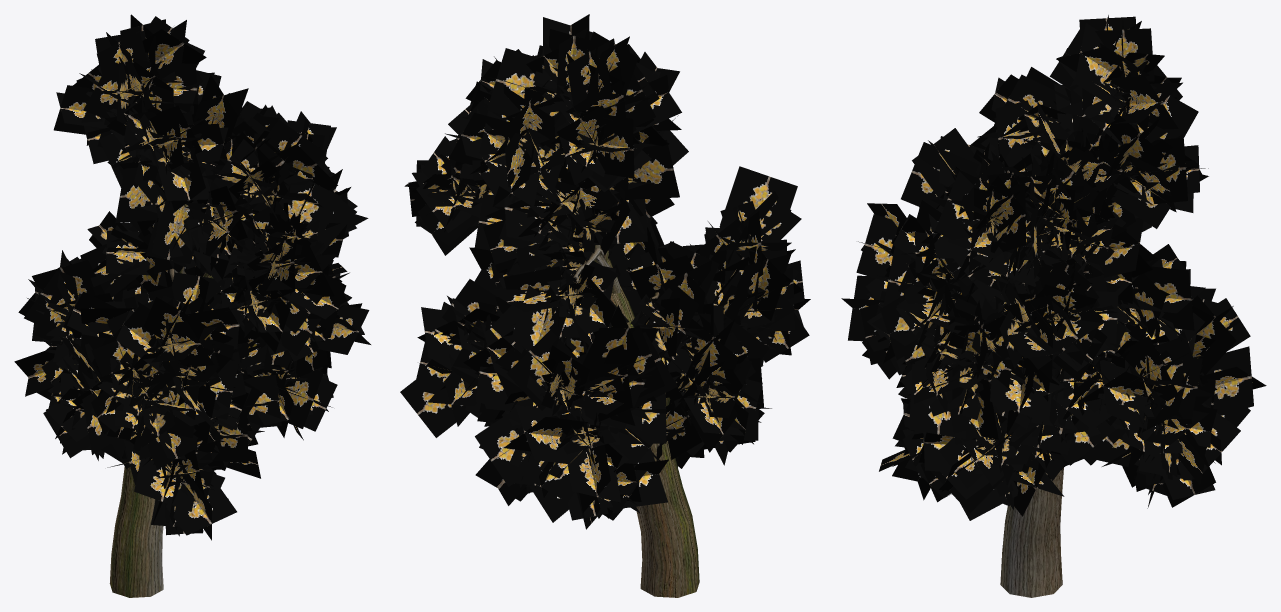
The model's file is eztree-hophornbeam-understory-d.glb.
The picture shows the model from 3 angles, left to right: view 1: azimuth 30°, elevation 25°; view 2: azimuth 150°, elevation 25°; view 3: azimuth 270°, elevation 25°; orthographic projection. The views are drawn at different scales.
Parts seen in each view (by area): view 1: eztree-hophornbeam-understory-d; view 2: eztree-hophornbeam-understory-d; view 3: eztree-hophornbeam-understory-d.
Boxes of the visible parts, left/top/right/bottom form: eztree-hophornbeam-understory-d: left=14, top=14, right=370, bottom=597; eztree-hophornbeam-understory-d: left=400, top=14, right=810, bottom=597; eztree-hophornbeam-understory-d: left=841, top=15, right=1266, bottom=597.
Bounding box in the file's own units: 19.42 × 31.25 × 20.47.
2 materials, 2 textured.
